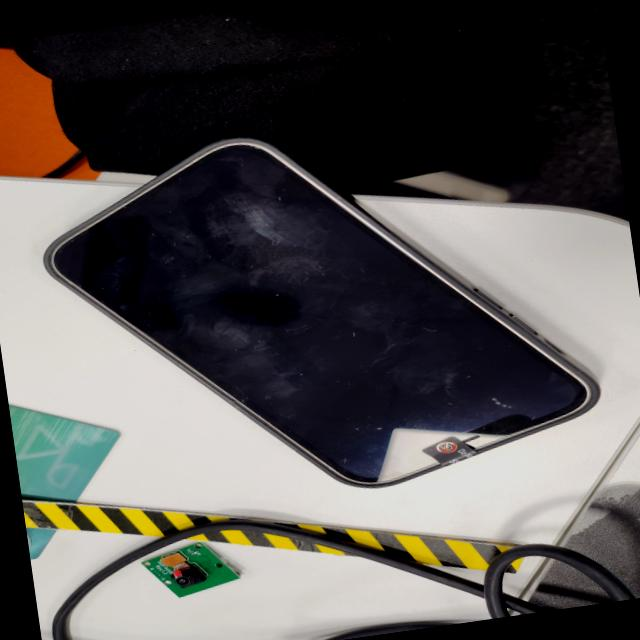phone: (31, 91, 612, 530)
sticker: (422, 432, 481, 469)
